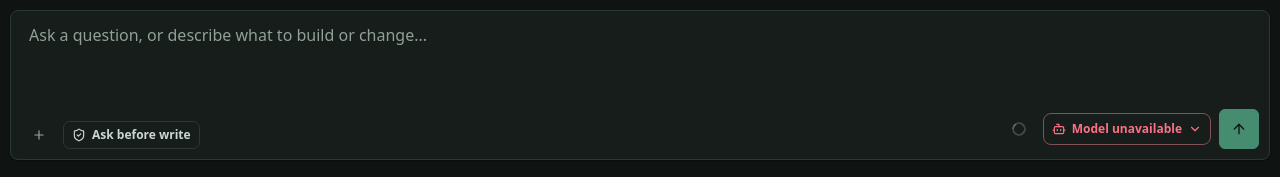
Scenario: BuilderComposer › keeps the add menu focused on composer modes instead of folder selection
This screenshot has width=1280, height=177.
Click the button named "Add context". click: (39, 135)
box: [25,121,53,149]
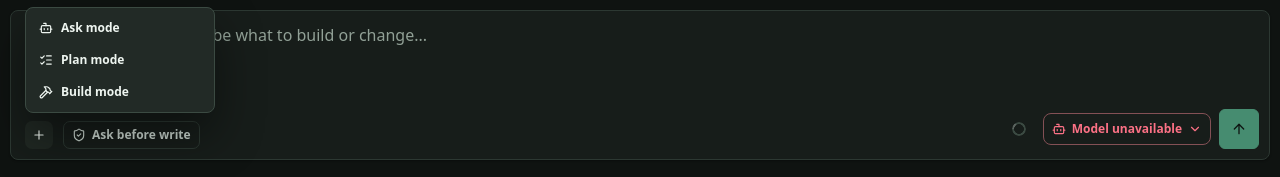
Expected: the menu item "Ask mode" is shown, [31,13,209,43]
Expected: the menu item "Plan mode" is shown, [31,45,209,75]
Expected: the menu item "Build mode" is shown, [31,77,209,107]
